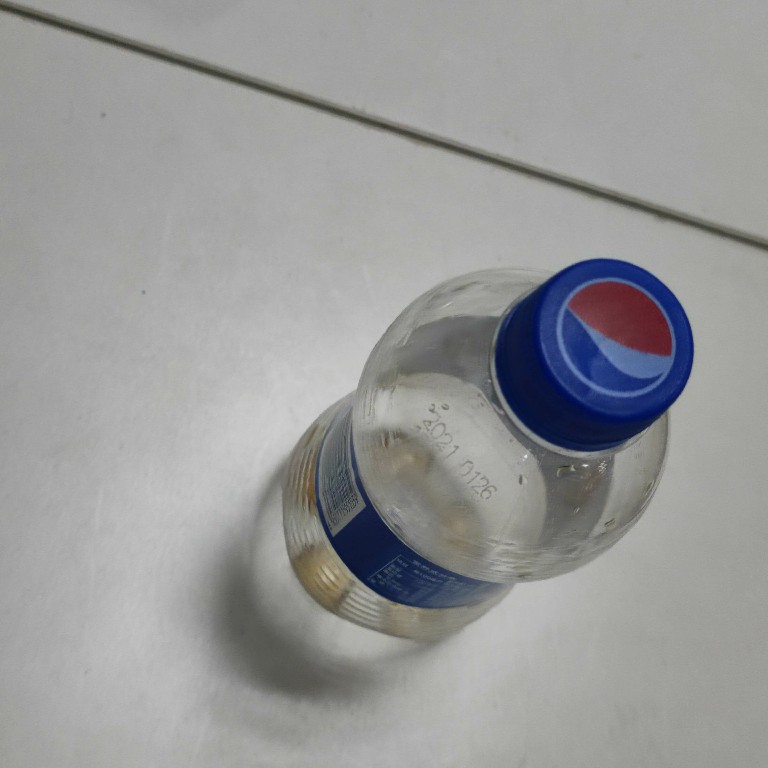bottle: (272, 253, 702, 656)
